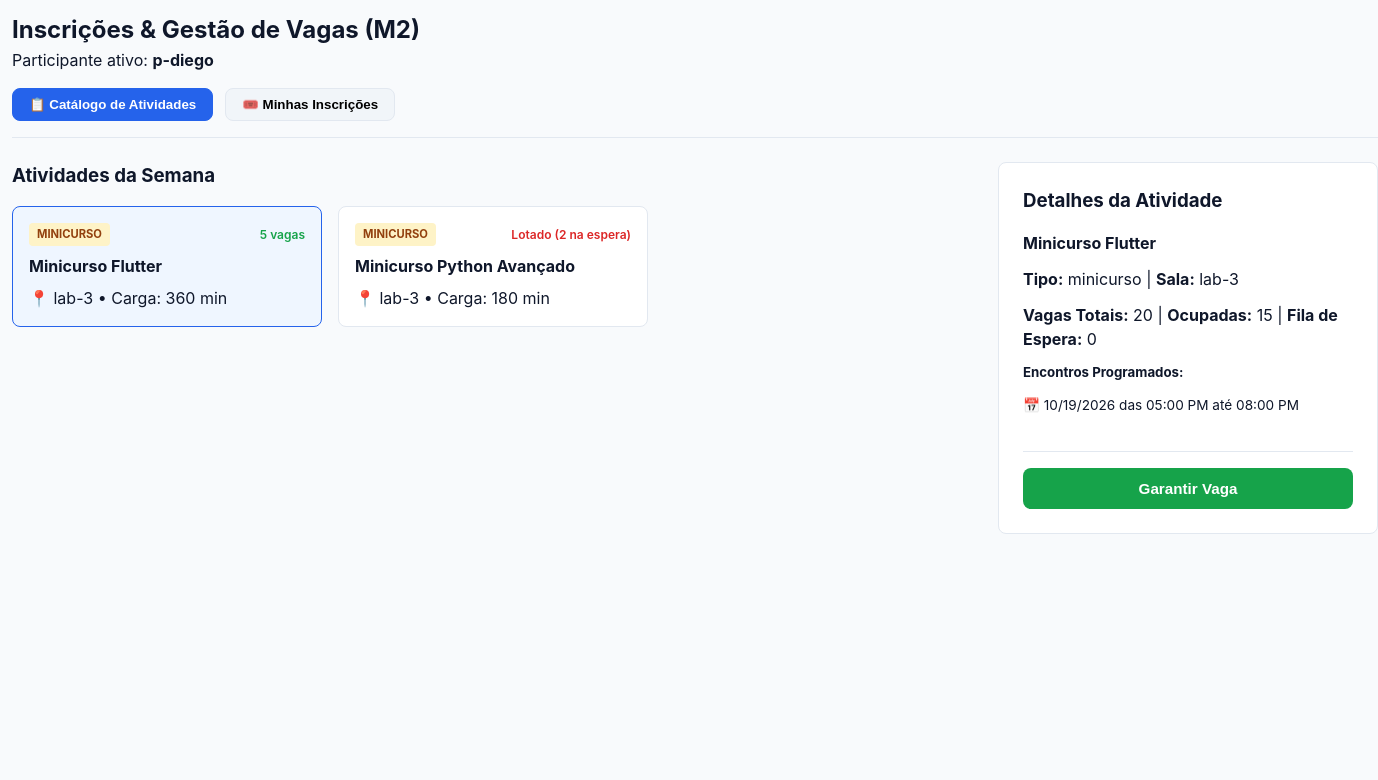
Test: M2 — Tela de Inscrições e Gestão de Vagas › permite entrar na lista de espera quando atividade estiver lotada
Note: Clica no card da atividade lotada atv_2
Click the element with test id "card-atividade-atv_2": (493, 267) [338,206,648,327]
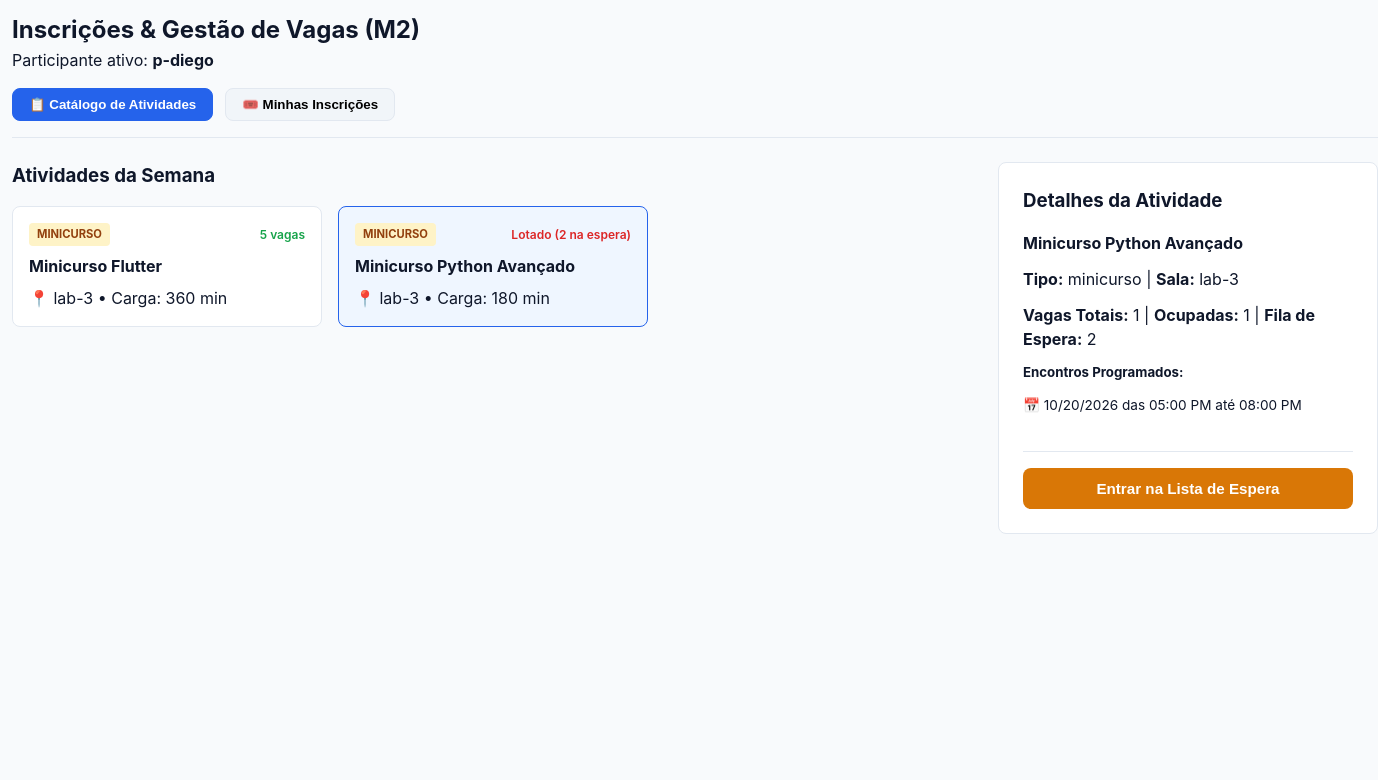
Now the button with test id "btn-inscrever" reads "Entrar na Lista de Espera"
Click the button with test id "btn-inscrever": (1188, 489) [1023,468,1353,509]
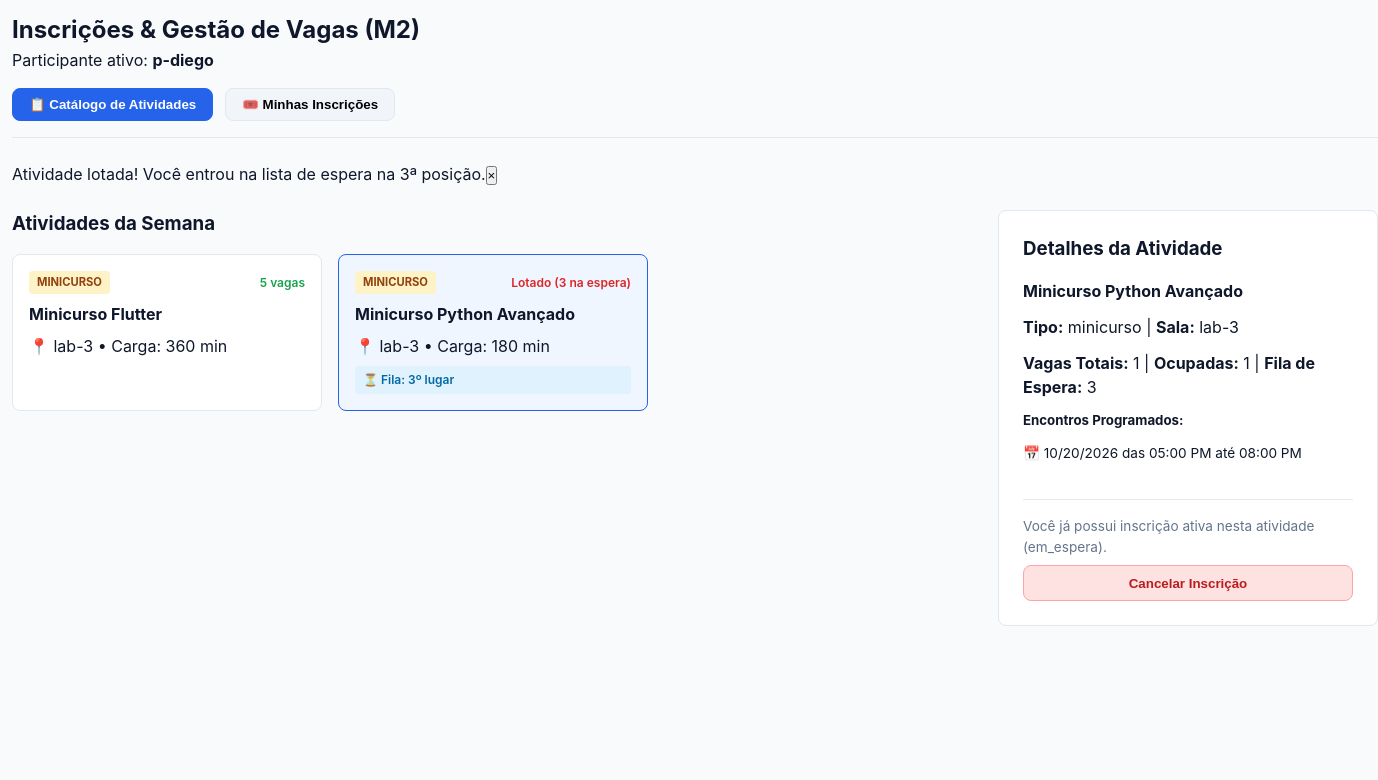
Now the element with test id "feedback-inscricao" shows "Você entrou na lista de espera", box [12,164,486,184]
